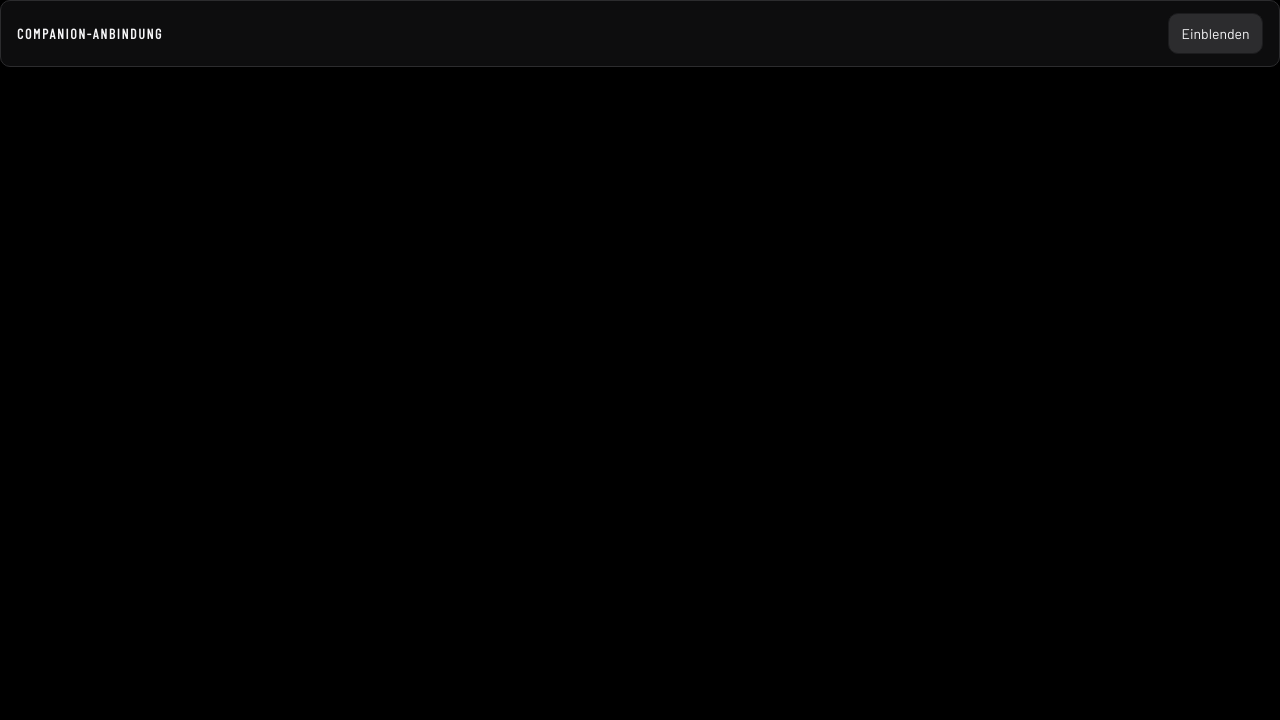
AdminCompanionCard › publishes the selected role
Click the button "Einblenden".
click(1216, 34)  # box [1168,13,1263,54]
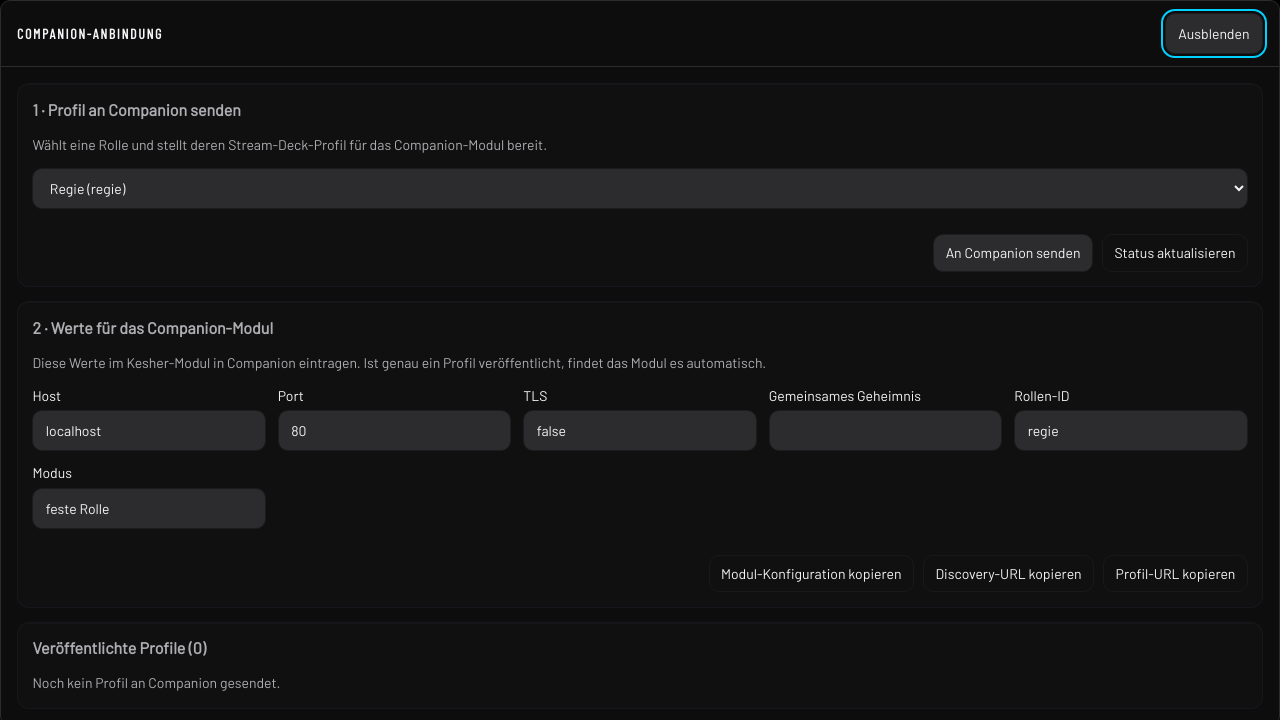
Select "Stage (stage)" in the dropdown named "Rolle für Companion" at (640, 188), box [32,168,1248,209]
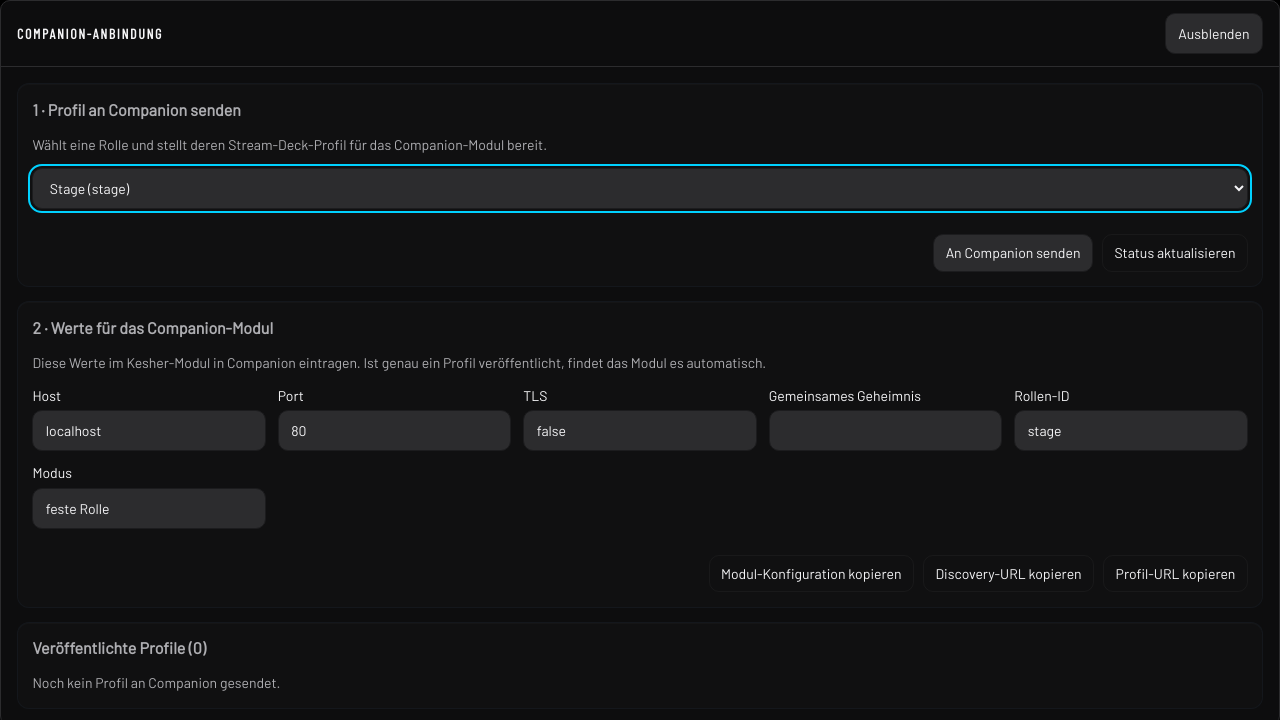
Click the button "An Companion senden".
click(1013, 253)  # box [933,234,1093,272]
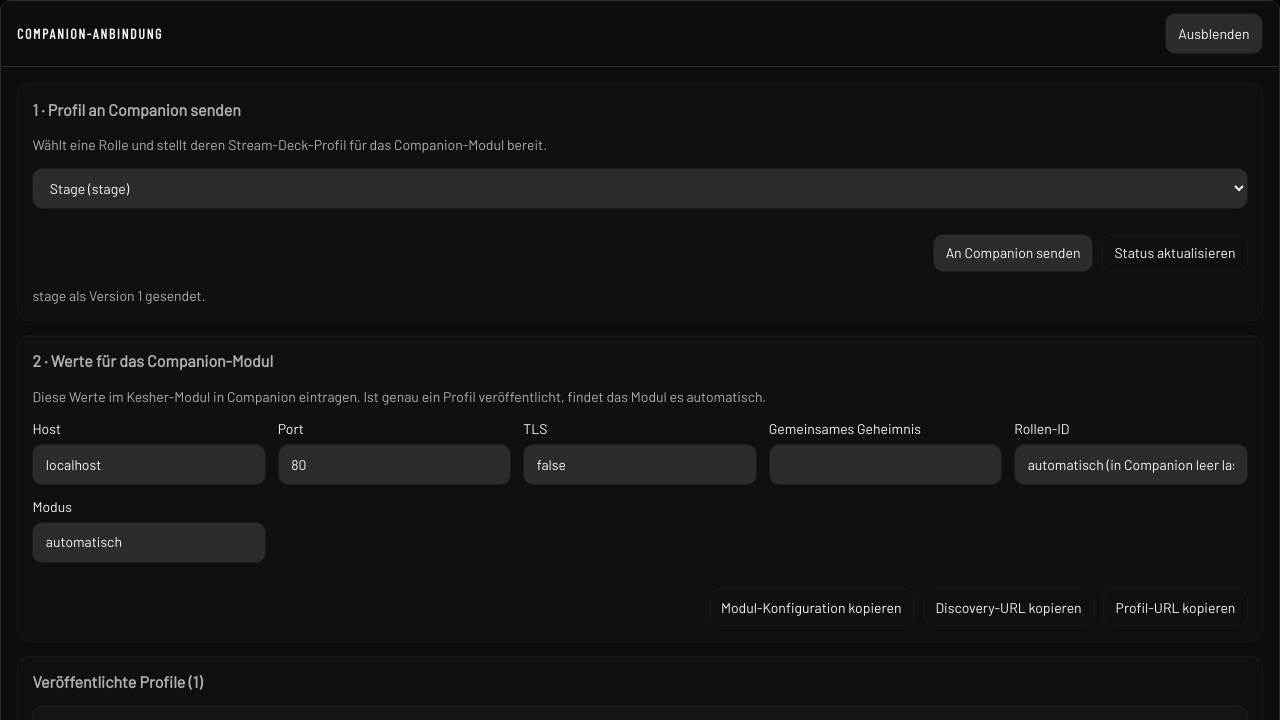
Check: the text "stage als Version 1 gesendet." is shown, box [32,287,206,304]
